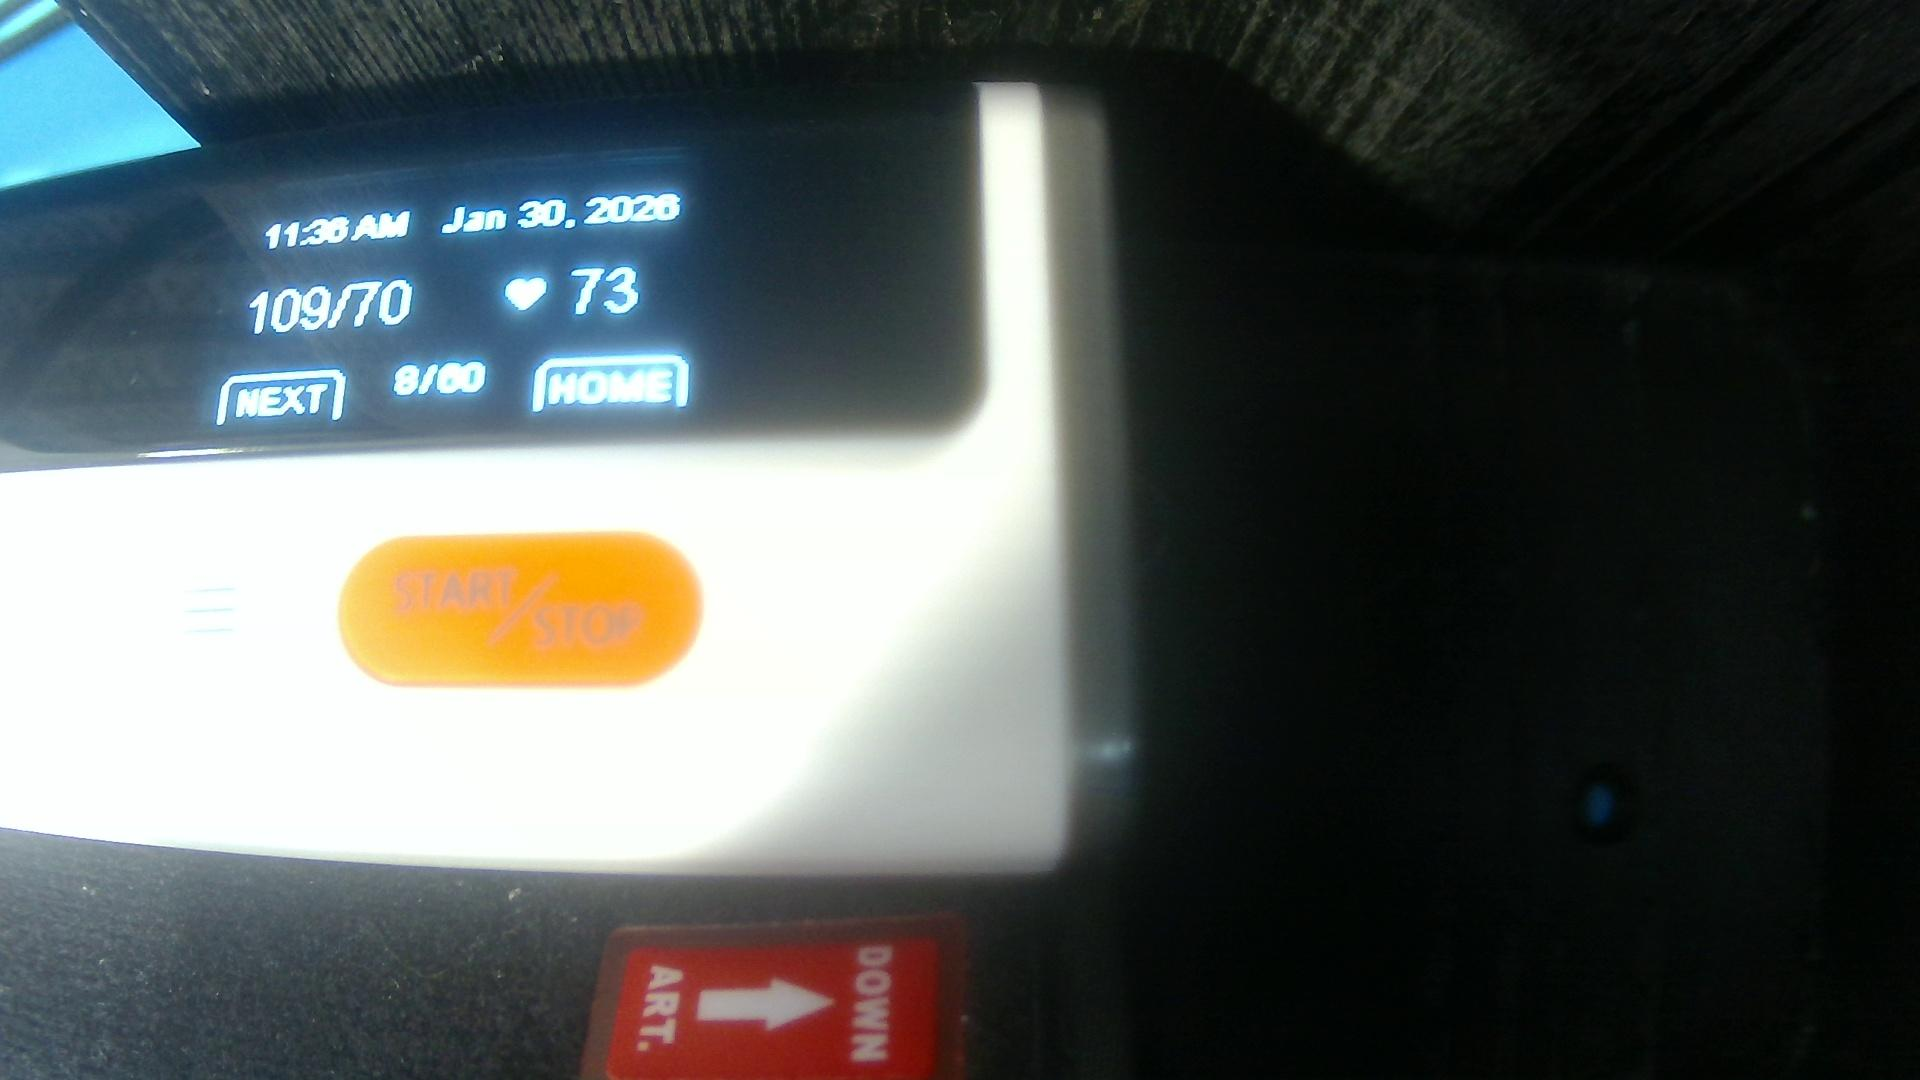DISPLAY: (14, 76, 974, 471)
